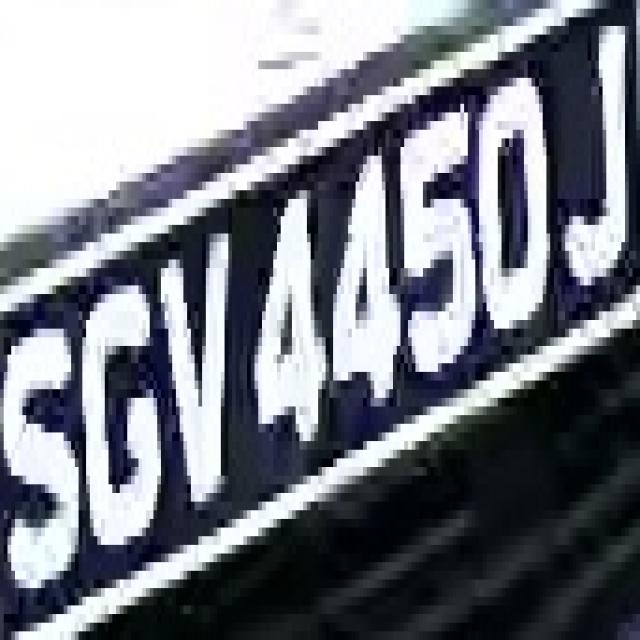0: (468, 69, 558, 337)
4: (322, 121, 397, 450), (247, 156, 326, 467)
5: (389, 104, 487, 398)
G: (79, 251, 172, 553)
J: (561, 9, 640, 311)
S: (8, 260, 82, 614)
V: (150, 234, 258, 502)
